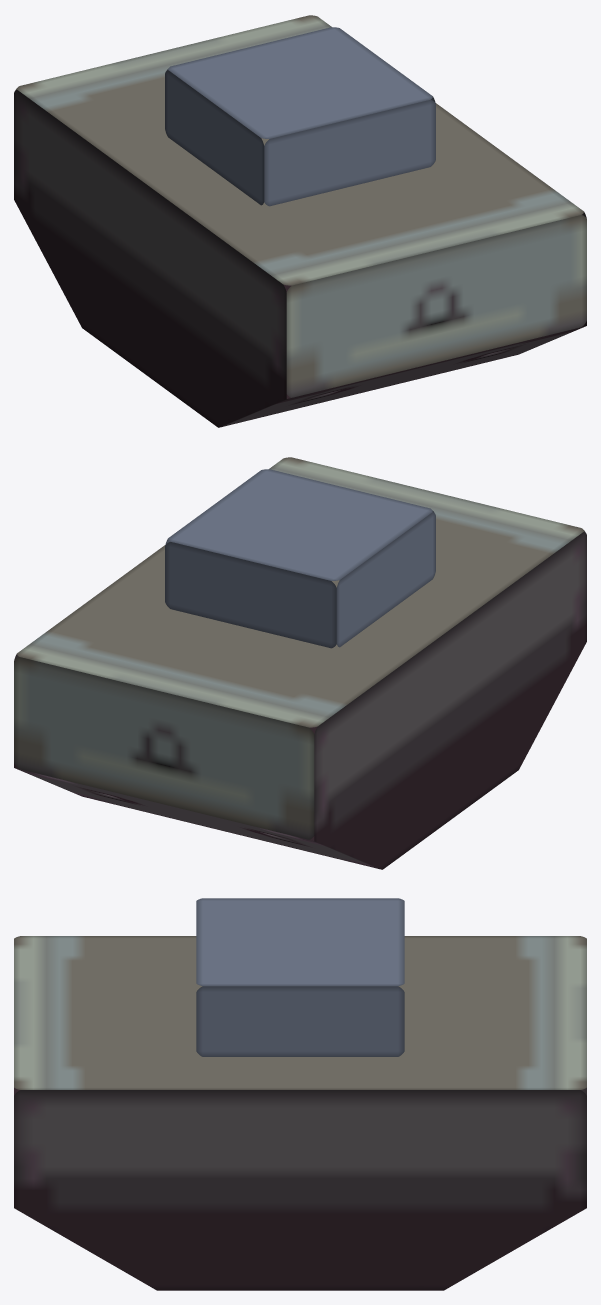
Rendered from df21_fuel_tank.obj.
The picture shows the model from 3 angles, top to bottom: view 1: azimuth 30°, elevation 25°; view 2: azimuth 150°, elevation 25°; view 3: azimuth 270°, elevation 25°; orthographic projection. The views are drawn at different scales.
Visible parts, largest first — view 1: youxiang_selection_selection_selection_selection_selection_selec; view 2: youxiang_selection_selection_selection_selection_selection_selec; view 3: youxiang_selection_selection_selection_selection_selection_selec.
Boxes of the visible parts, left/top/right/bottom form: youxiang_selection_selection_selection_selection_selection_selec: left=14, top=15, right=586, bottom=427; youxiang_selection_selection_selection_selection_selection_selec: left=14, top=457, right=586, bottom=869; youxiang_selection_selection_selection_selection_selection_selec: left=14, top=898, right=586, bottom=1290.
Bounding box in the file's own units: 1.75 × 1.44 × 2.75.
